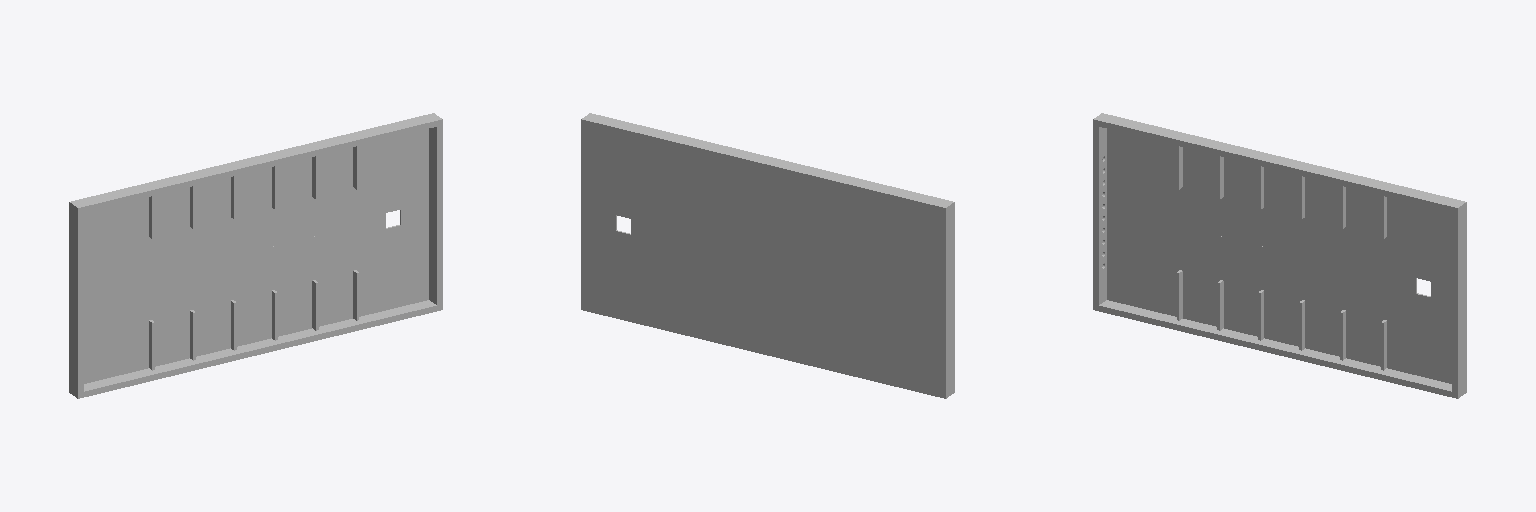
File: field.obj
The picture shows the model from 3 angles: view 1: azimuth 30°, elevation 25°; view 2: azimuth 150°, elevation 25°; view 3: azimuth 330°, elevation 25°; orthographic projection.
Parts seen in each view (by area): view 1: field; view 2: field; view 3: field.
Boxes of the visible parts, box(x1,y1,x2,y2) form: field: box(69, 113, 442, 398); field: box(581, 113, 954, 398); field: box(1093, 113, 1466, 398).
Bounding box in the file's own units: 2.44 × 1.22 × 0.1008.